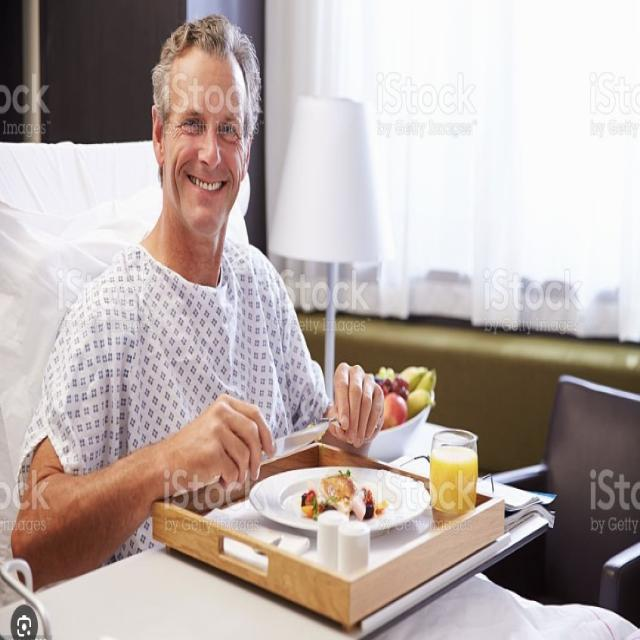eating-person: (10, 4, 489, 602)
